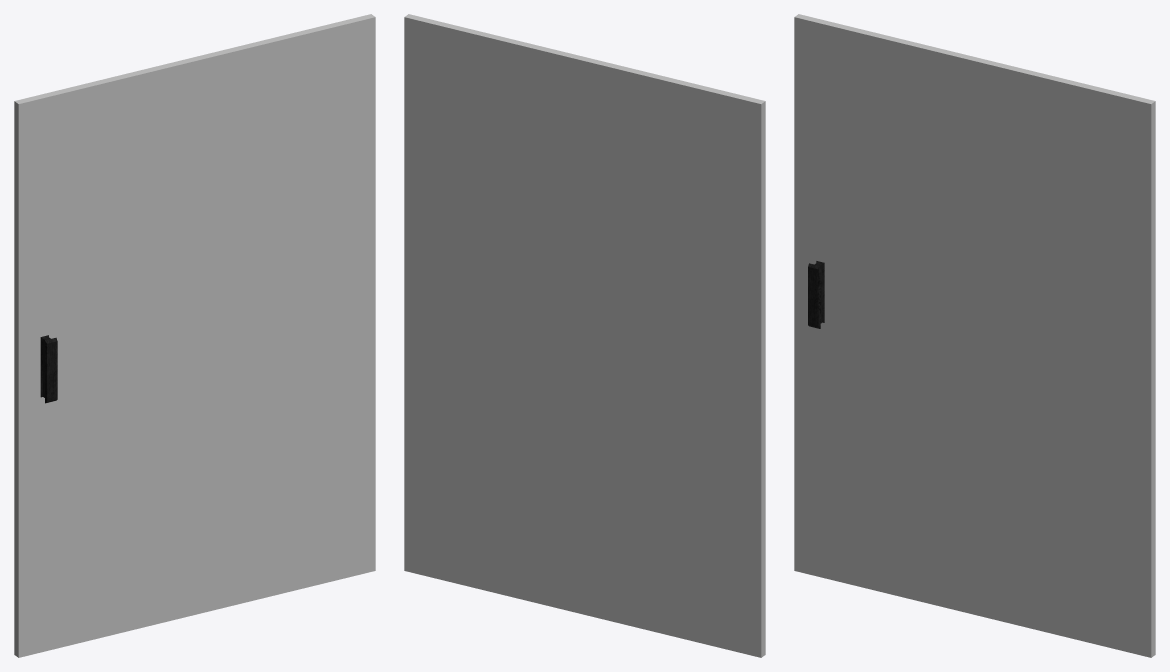
File: keuken2_Left2.fbx
The picture shows the model from 3 angles, left to right: view 1: azimuth 30°, elevation 25°; view 2: azimuth 150°, elevation 25°; view 3: azimuth 330°, elevation 25°; orthographic projection.
Parts seen in each view (by area): view 1: Cube.003; view 2: Cube.003; view 3: Cube.003.
Part boxes in pixels (box(x1,y1,x2,y2)): Cube.003: box(14, 14, 375, 657); Cube.003: box(404, 14, 765, 657); Cube.003: box(794, 14, 1155, 657).
Bounding box in the file's own units: 54.07 × 80.15 × 3.05.
